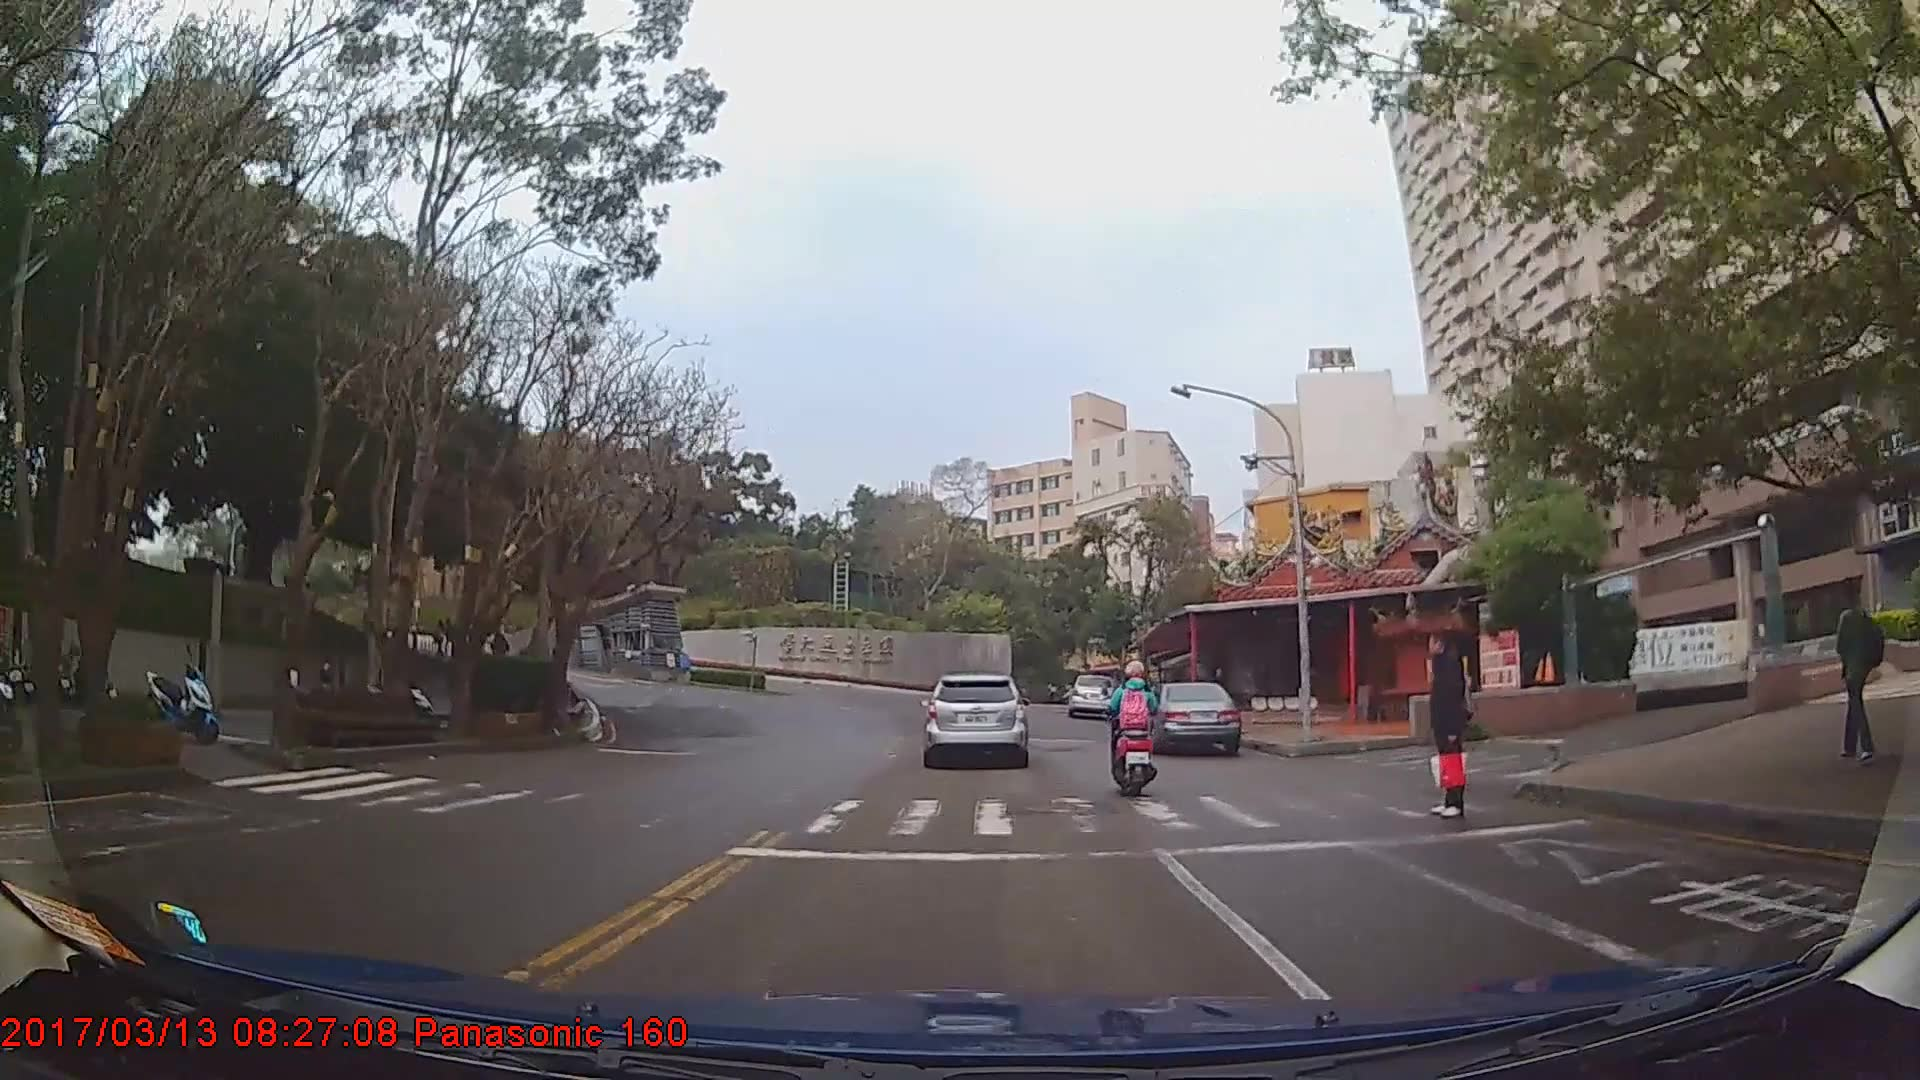pedestrian: (1832, 582, 1891, 767), (1428, 624, 1476, 820)
rider: (1106, 667, 1167, 807)
vehicle: (924, 670, 1027, 767), (1140, 680, 1241, 752), (1068, 673, 1117, 718)
